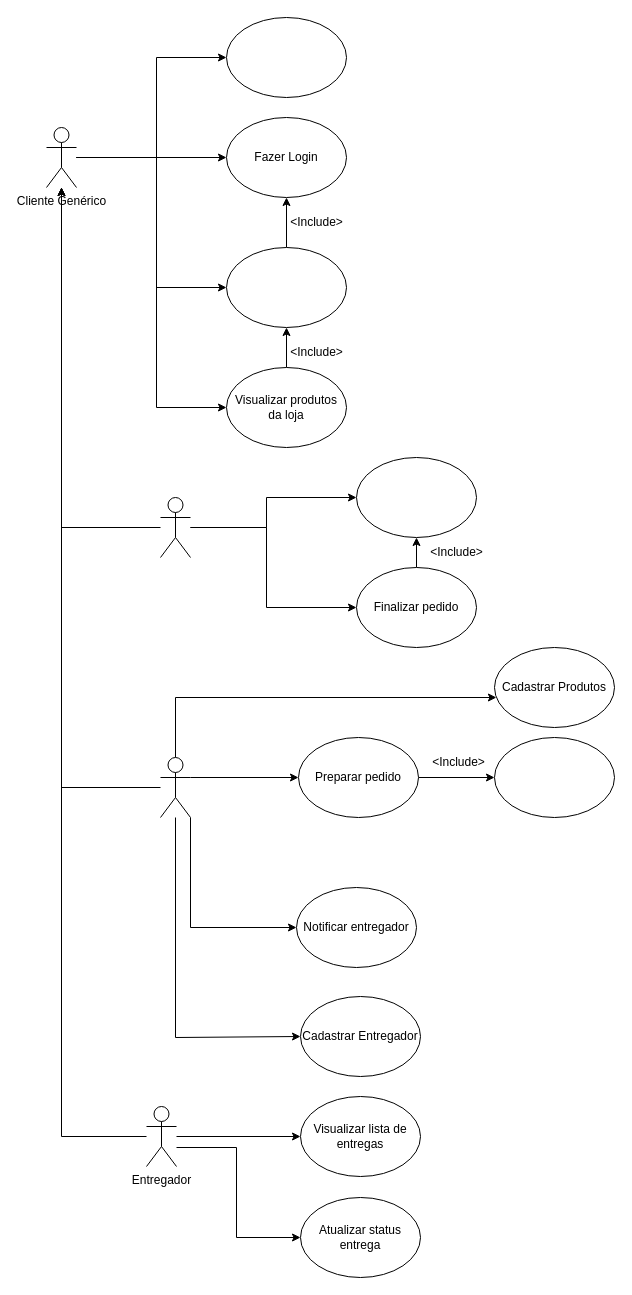
Some shapes in this 632 by 1295 pixel diagram are drawn without their labels. The shapes that lost their labels are listed below. From the top down, each one's centre as x and y in pixels, then its label:
pixel 286 57: Realizar cadastro
pixel 286 287: Visualizar lista de lojas
pixel 416 497: Adicionar produtos ao carrinho
pixel 175 527: Cliente
pixel 175 787: Loja
pixel 554 777: Visualizar lista de pedido
